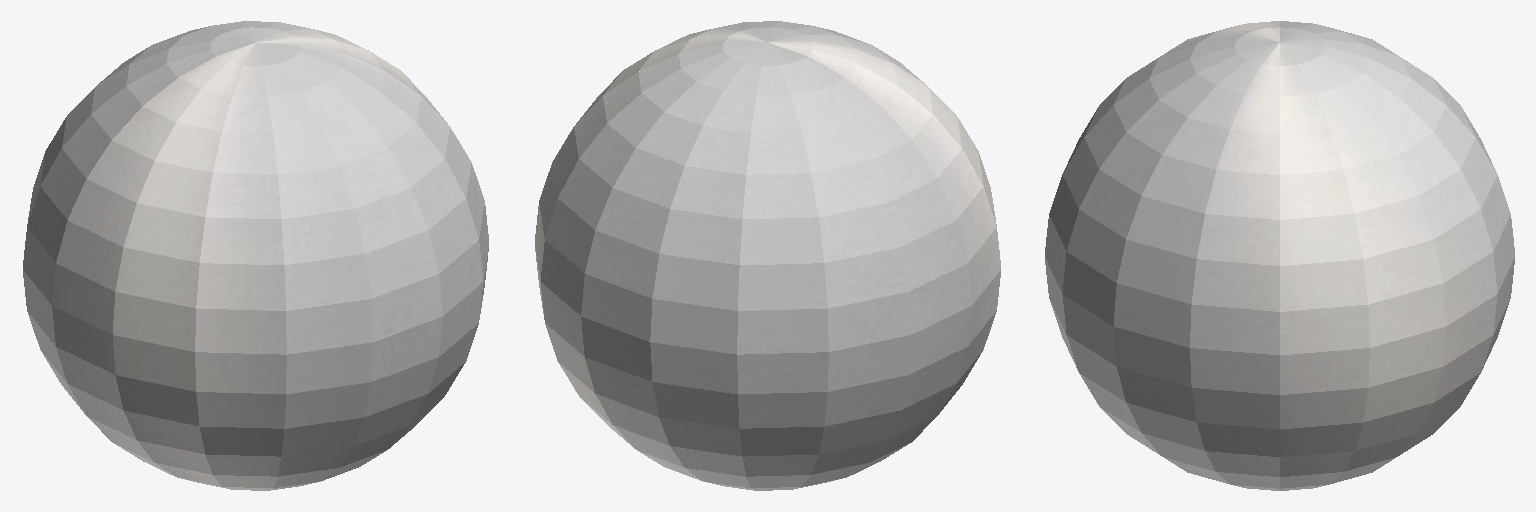
The picture shows the model from 3 angles: view 1: azimuth 30°, elevation 25°; view 2: azimuth 150°, elevation 25°; view 3: azimuth 270°, elevation 25°; orthographic projection.
Visible parts, largest first — view 1: Lamp_Bulb; view 2: Lamp_Bulb; view 3: Lamp_Bulb.
Boxes of the visible parts, x1,y1,x2,y2 form: Lamp_Bulb: [23, 21, 488, 490]; Lamp_Bulb: [535, 21, 1000, 490]; Lamp_Bulb: [1045, 21, 1514, 490].
Size of the model in its own units: 0.156 by 0.156 by 0.156.
1 materials, 1 textured.